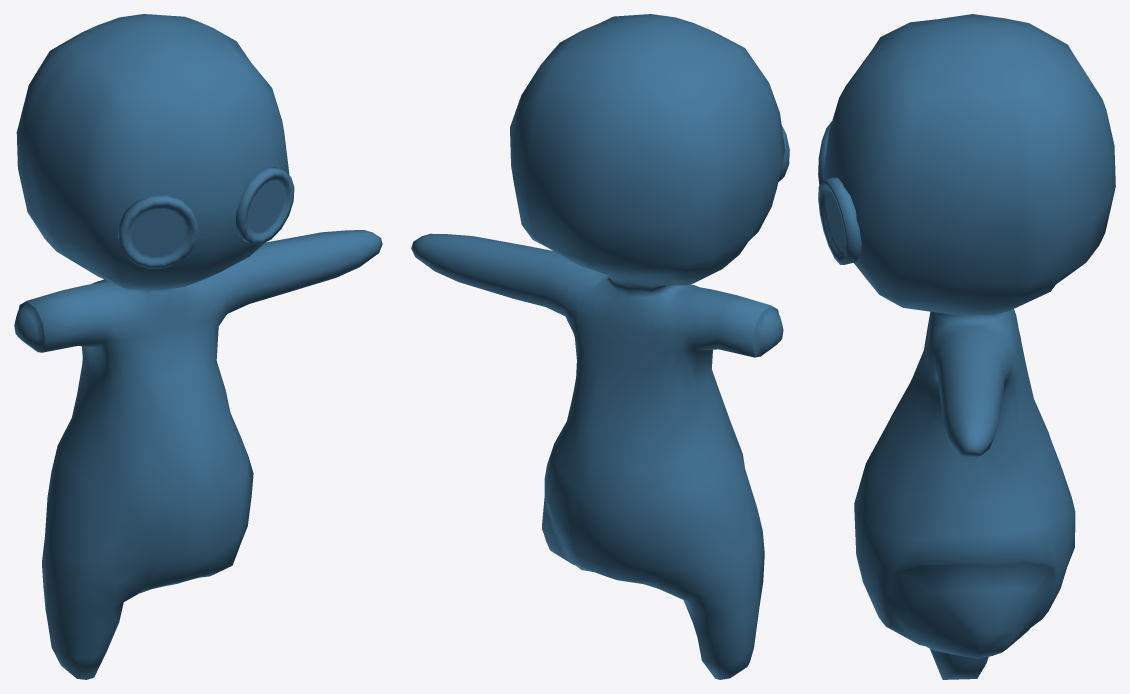
The model's file is Puppe_01_SM.FBX.
3 renders of one model, left to right at view 1: azimuth 30°, elevation 25°; view 2: azimuth 150°, elevation 25°; view 3: azimuth 270°, elevation 25°, orthographic. The views are drawn at different scales.
Visible parts, largest first — view 1: Voodoo 01; view 2: Voodoo 01; view 3: Voodoo 01.
Boxes of the visible parts, box(x1,y1,x2,y2) form: Voodoo 01: box(14, 14, 382, 679); Voodoo 01: box(411, 14, 789, 679); Voodoo 01: box(818, 14, 1115, 679).
Bounding box in the file's own units: 24.15 × 39.88 × 15.64.
